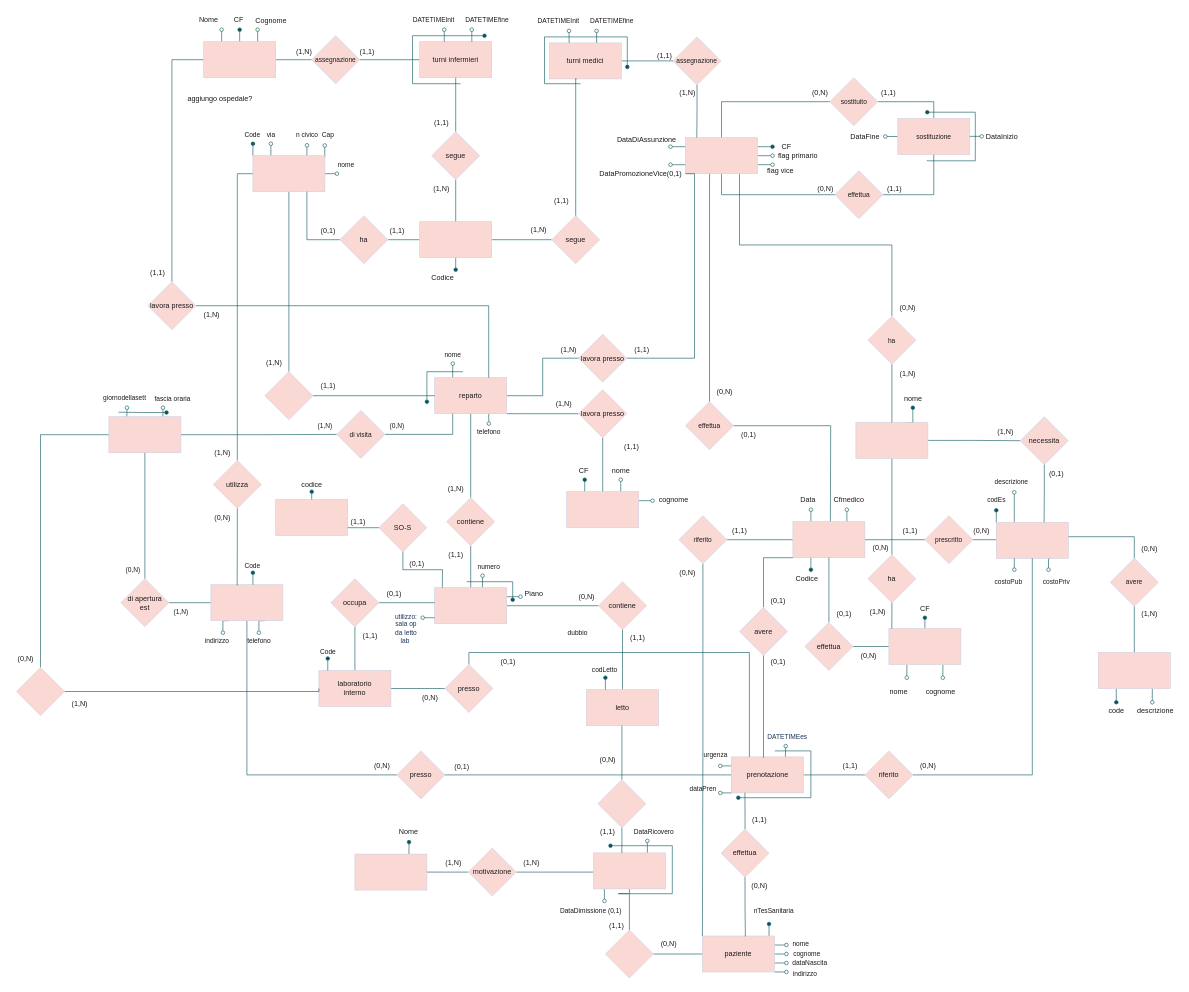
The diagram is 1189 pixels wide and 992 high, and some of its shapes have lost their labels. Each missing label, with the centre of its shape:
"avvertenze" goes at (x=1134, y=670).
"compone" goes at (x=288, y=395).
"di apertura int" goes at (x=40, y=691).
"esame" goes at (x=1032, y=540).
"infermieri" goes at (x=239, y=59).
"laboratorio esterno" goes at (x=246, y=602).
"medico esterno" goes at (x=924, y=646).
"occupato" goes at (x=621, y=803).
"orari" goes at (x=144, y=434).
"ospedale" goes at (x=288, y=173).
"patologie" goes at (x=390, y=872).
"personale amministrativo" goes at (x=602, y=509).
"personale medico" goes at (x=721, y=155).
"prescrizione" goes at (x=828, y=539).
"PS" goes at (x=455, y=239).
"ricoverato" goes at (x=629, y=953).
"ricovero" goes at (x=629, y=870).
"sala operatoria" goes at (x=311, y=517).
"specializzazioni" goes at (x=891, y=440).
"stanza" goes at (x=470, y=605).
